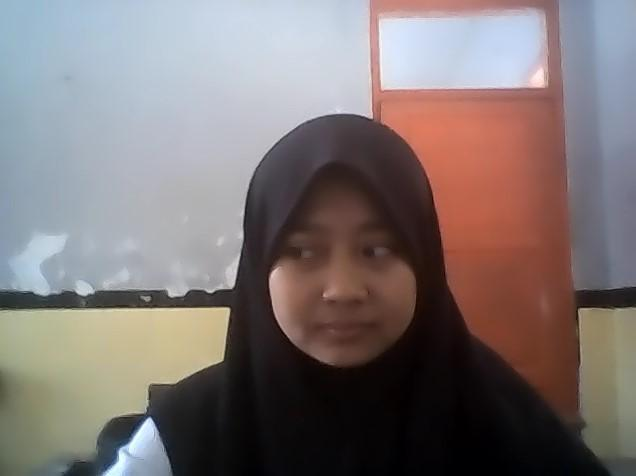cheating: (210, 83, 459, 401)
